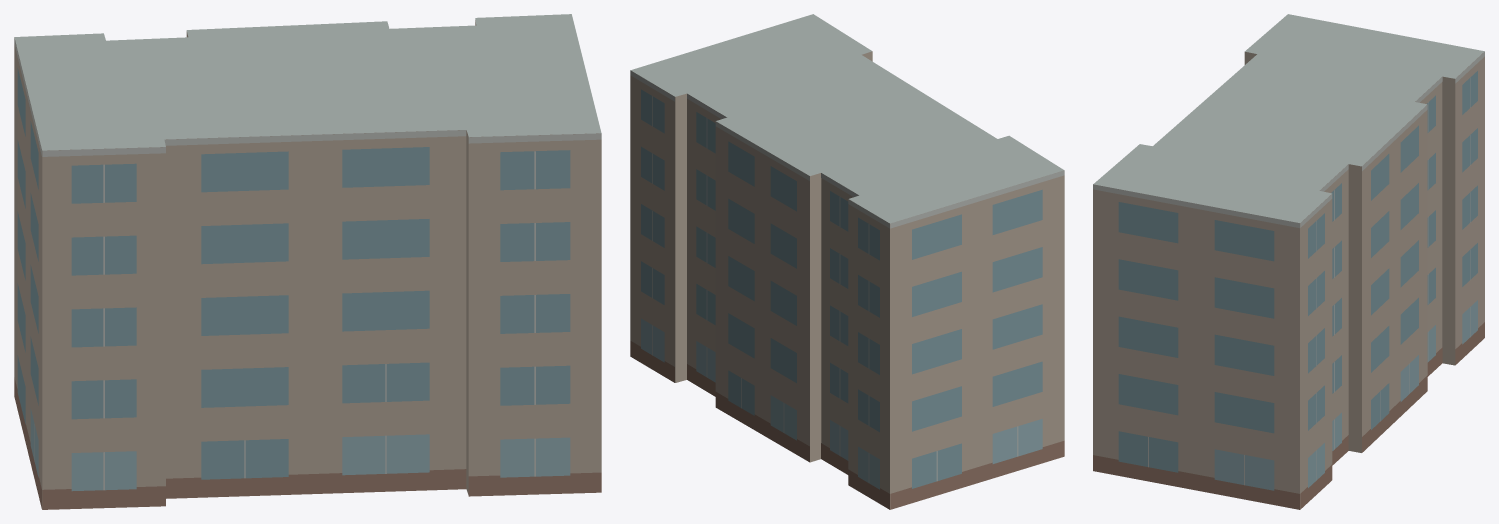
File: survey-upis-32512122.glb
The picture shows the model from 3 angles, left to right: view 1: azimuth 30°, elevation 25°; view 2: azimuth 150°, elevation 25°; view 3: azimuth 270°, elevation 25°; orthographic projection. The views are drawn at different scales.
Visible parts, largest first — view 1: survey-upis-32512122.tmp; view 2: survey-upis-32512122.tmp; view 3: survey-upis-32512122.tmp.
Boxes of the visible parts, left/top/right/bottom form: survey-upis-32512122.tmp: left=14, top=14, right=601, bottom=509; survey-upis-32512122.tmp: left=630, top=14, right=1064, bottom=509; survey-upis-32512122.tmp: left=1093, top=14, right=1484, bottom=509.
Size of the model in its own units: 21.52 by 13.75 by 17.04.
